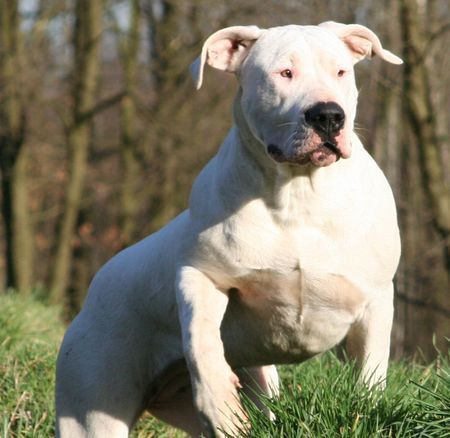dogo_argentino: (54, 19, 404, 438)
